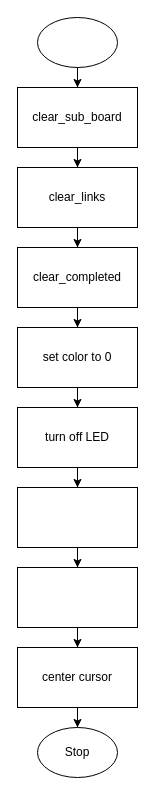
The diagram is 155 pixels wide and 795 high, and some of its shapes have lost their labels. The centre of each missing label's shape, as x and y in pixels:
center x and y: pixel 77 597
reset timer value: pixel 77 517
Start: pixel 77 42
